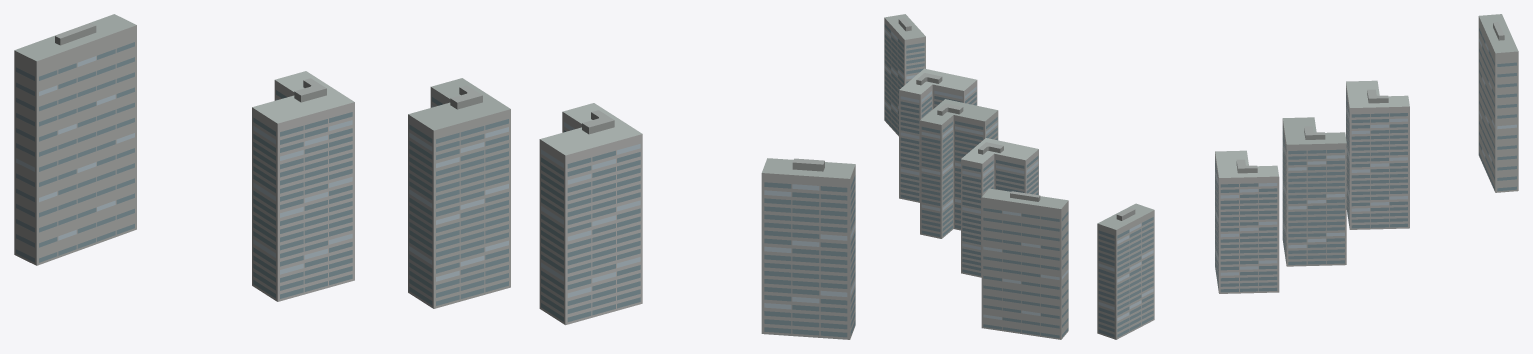
The model's file is apt-a15105008.glb.
The picture shows the model from 3 angles, left to right: view 1: azimuth 30°, elevation 25°; view 2: azimuth 150°, elevation 25°; view 3: azimuth 270°, elevation 25°; orthographic projection. The views are drawn at different scales.
Parts seen in each view (by area): view 1: apt-a15105008; view 2: apt-a15105008; view 3: apt-a15105008.
Part boxes in pixels (x1,y1,x2,y2): apt-a15105008: (14, 14, 855, 339); apt-a15105008: (884, 14, 1068, 339); apt-a15105008: (1097, 14, 1518, 339).
Size of the model in its own units: 202 by 73 by 193.
